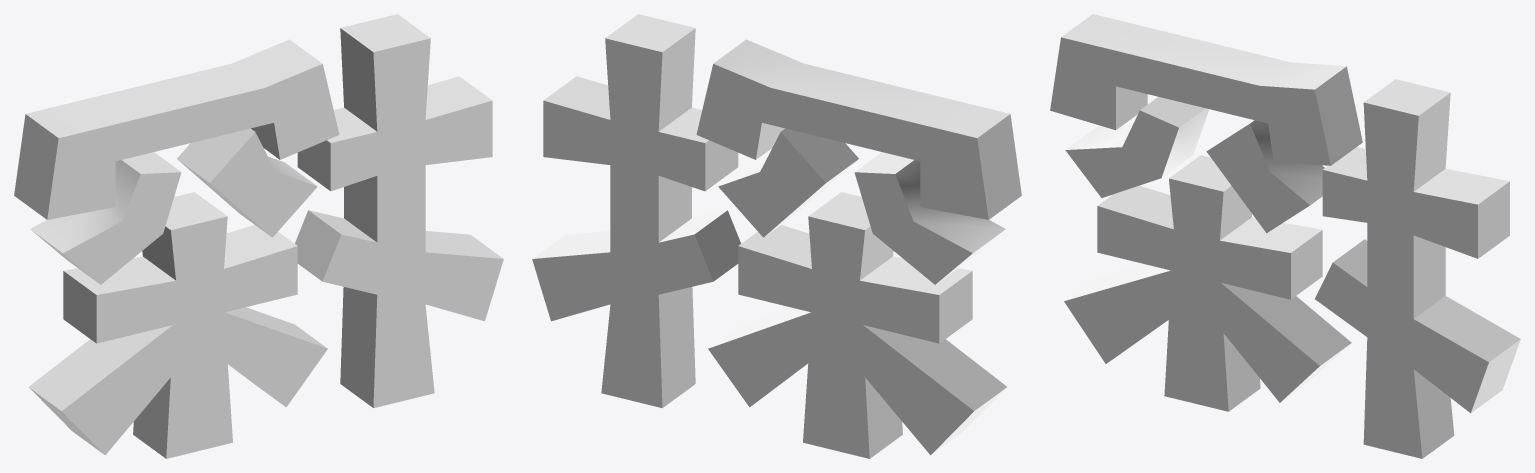
Rendered from sagasu.ico.obj.
3 views of the same model, side by side, from view 1: azimuth 30°, elevation 25°; view 2: azimuth 150°, elevation 25°; view 3: azimuth 330°, elevation 25° (orthographic). The views are drawn at different scales.
Bounding box in the file's own units: 4.96 × 3.71 × 0.625.
Materials: 1 (1 with a texture image).
